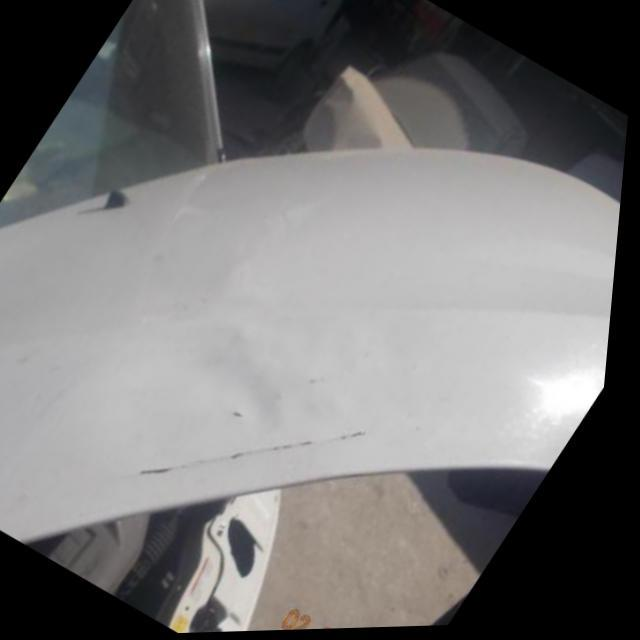dent: (213, 323, 294, 439)
scratch: (149, 428, 378, 486)
